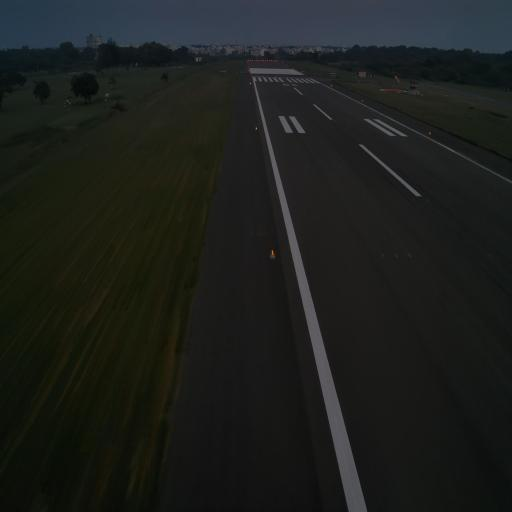off: (407, 251, 413, 262), (394, 251, 401, 260), (381, 251, 386, 262)
on: (267, 244, 276, 262)
